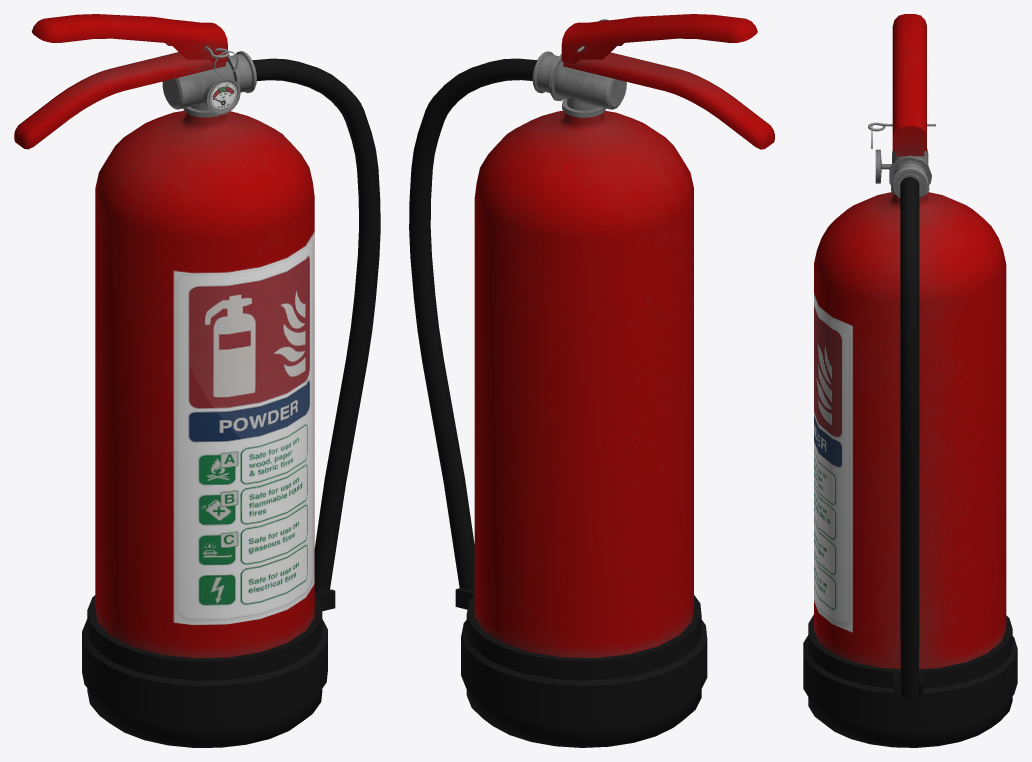
File: fire_extinguisher.glb
3 views of the same model, side by side, from view 1: azimuth 30°, elevation 25°; view 2: azimuth 150°, elevation 25°; view 3: azimuth 270°, elevation 25° (orthographic). The views are drawn at different scales.
Visible parts, largest first — view 1: Cylinder, Cylinder.005, Plane, Plane.001, Cube, Cylinder.002, Cylinder.003; view 2: Cylinder, Cylinder.005, Plane, Plane.001, Cube, Cylinder.002; view 3: Cylinder, Cylinder.005, Plane, Plane.001, Cylinder.002.
Boxes of the visible parts, x1,y1,x2,y2 form: Cylinder: (95,111,314,658); Cylinder.005: (82,594,327,747); Plane: (252,58,380,591); Plane.001: (31,14,227,63); Cube: (14,52,225,149); Cylinder.002: (162,51,256,109); Cylinder.003: (204,76,240,114); Cylinder: (474,111,693,657); Cylinder.005: (461,595,707,747); Plane: (409,58,536,590); Plane.001: (561,14,757,63); Cube: (563,52,774,149); Cylinder.002: (532,51,626,109); Cylinder: (814,192,1006,669); Cylinder.005: (803,615,1017,747); Plane: (900,177,919,699); Plane.001: (892,14,926,151); Cylinder.002: (889,148,931,198).
Bounding box in the file's own units: 2.27 × 4.37 × 1.35.
1 material, 1 textured.
